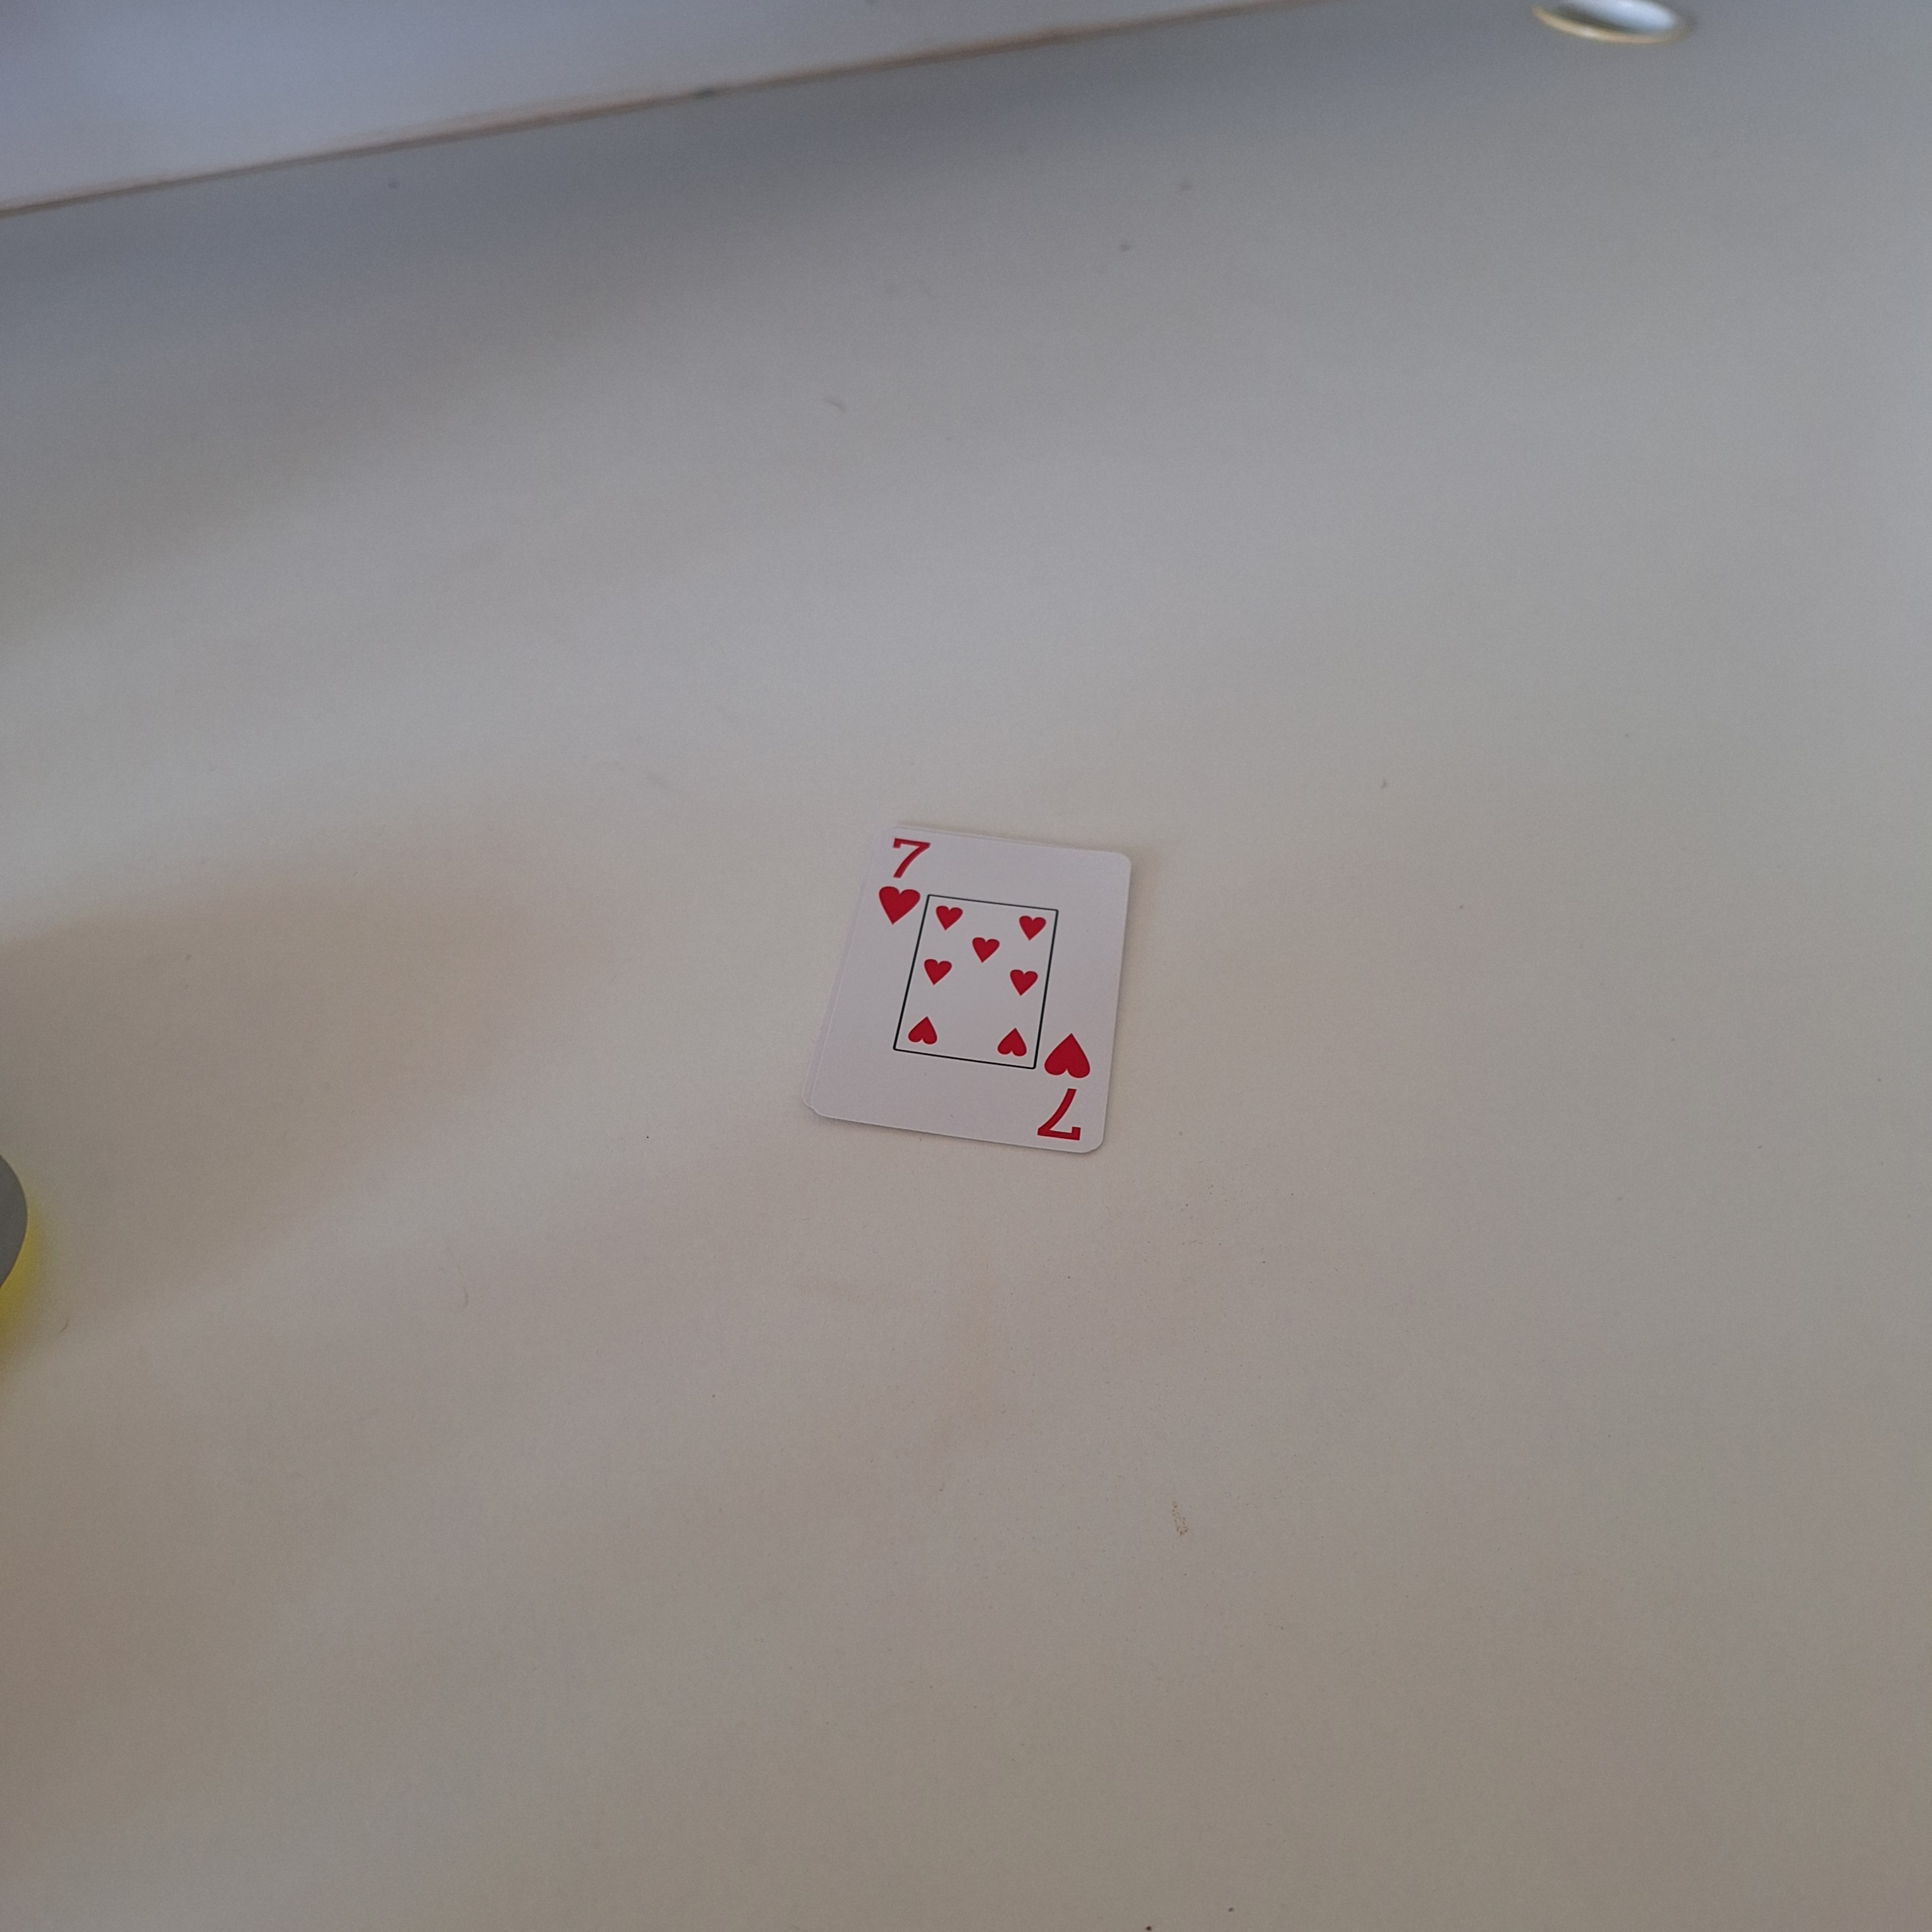7C: (1028, 1026, 1102, 1152), (872, 832, 934, 934)
